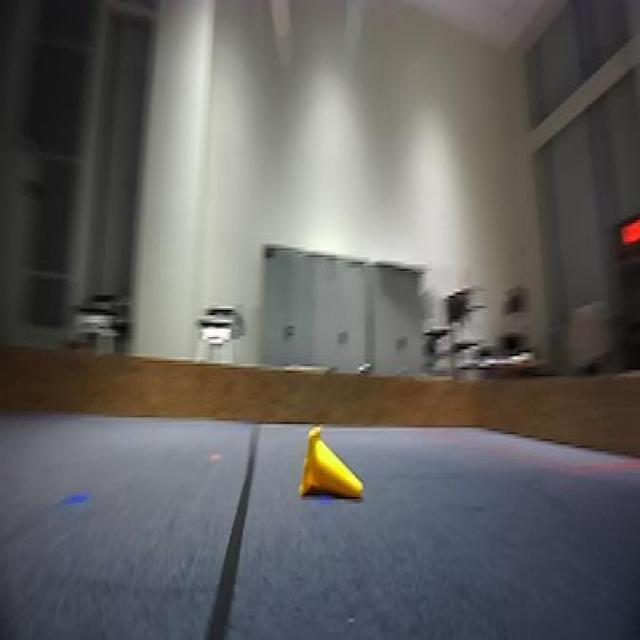frc_cone: (297, 422, 366, 514)
